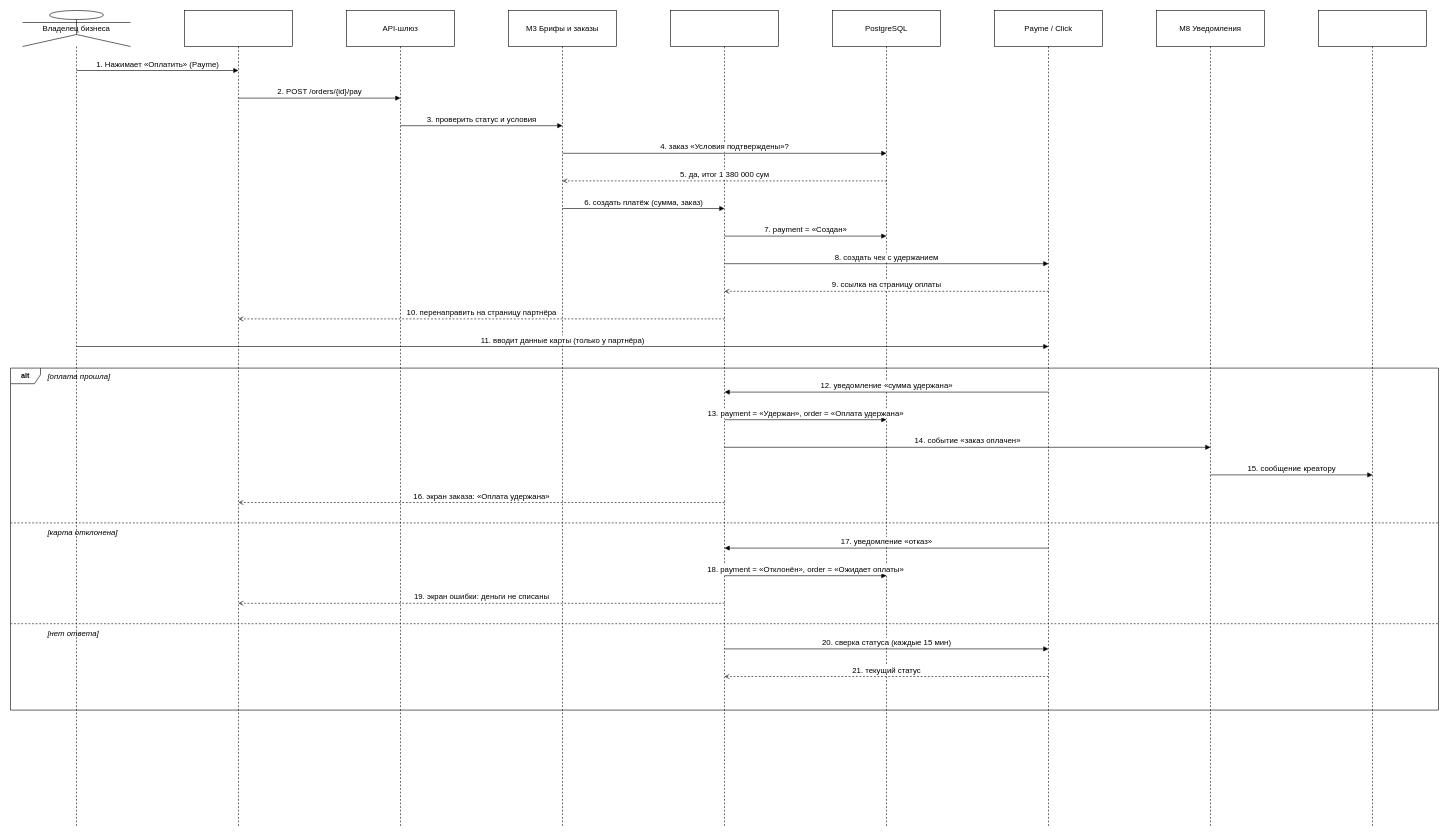
This 1450x838 diagram has some shape labels left out. Here are the shapes that lost their labels. From the top down, the box of each, then its label:
(184, 10, 292, 828): Веб-клиент Kadr
(670, 10, 778, 828): М4 Платежи
(1318, 10, 1426, 828): Telegram Bot API
